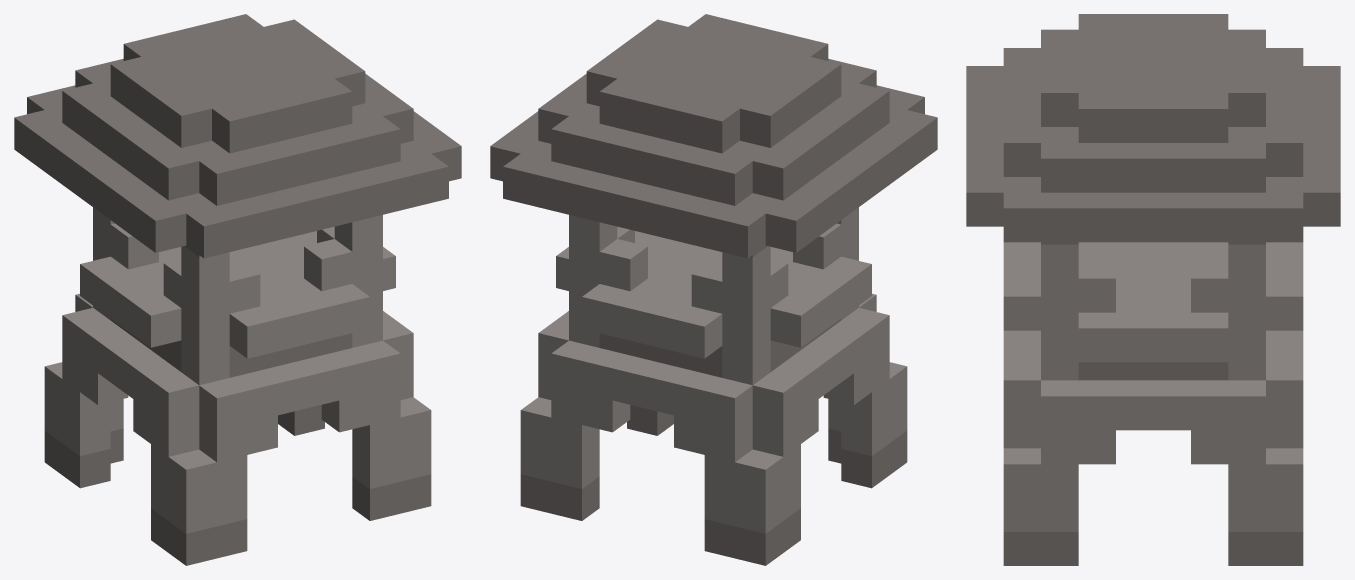
File: 2022 Torii (Wheezy Woods)-22.obj
The picture shows the model from 3 angles, left to right: view 1: azimuth 30°, elevation 25°; view 2: azimuth 150°, elevation 25°; view 3: azimuth 270°, elevation 25°; orthographic projection. The views are drawn at different scales.
Size of the model in its own units: 1 by 1.3 by 1.
1 material, 1 textured.
